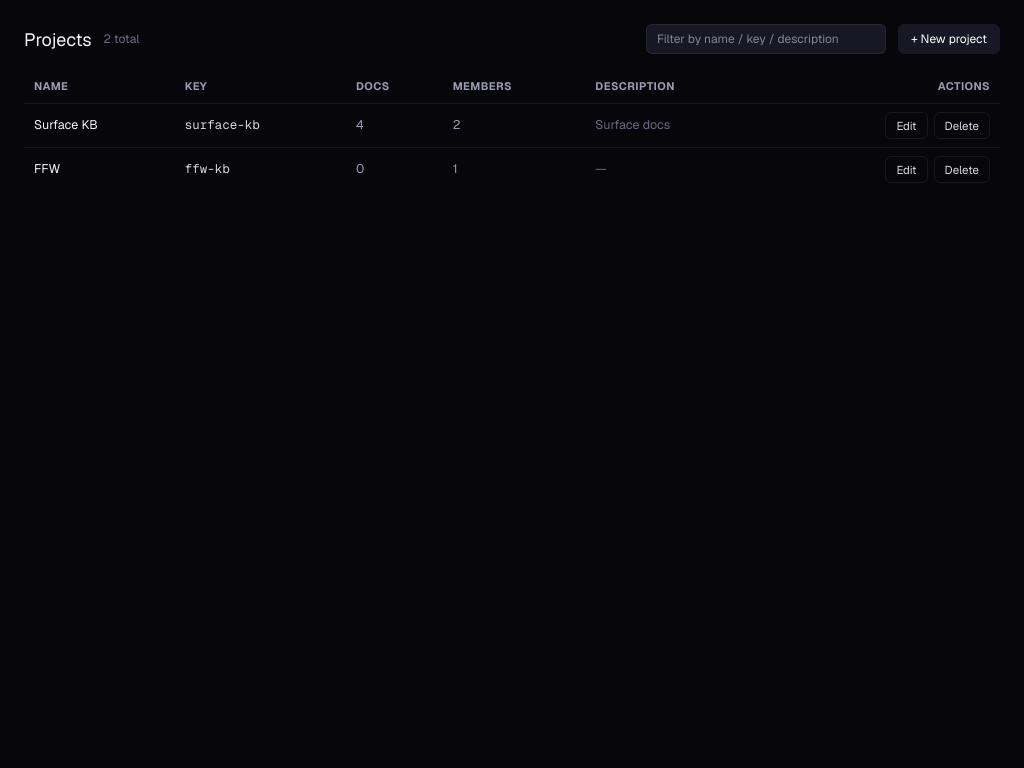
ProjectsList › opens edit mode with a read-only key
Expected: the row with test id "admin-project-row-1" is shown, [24, 103, 1000, 147]
Click the button with test id "admin-project-row-1-edit" at (906, 125), box [885, 112, 928, 139]
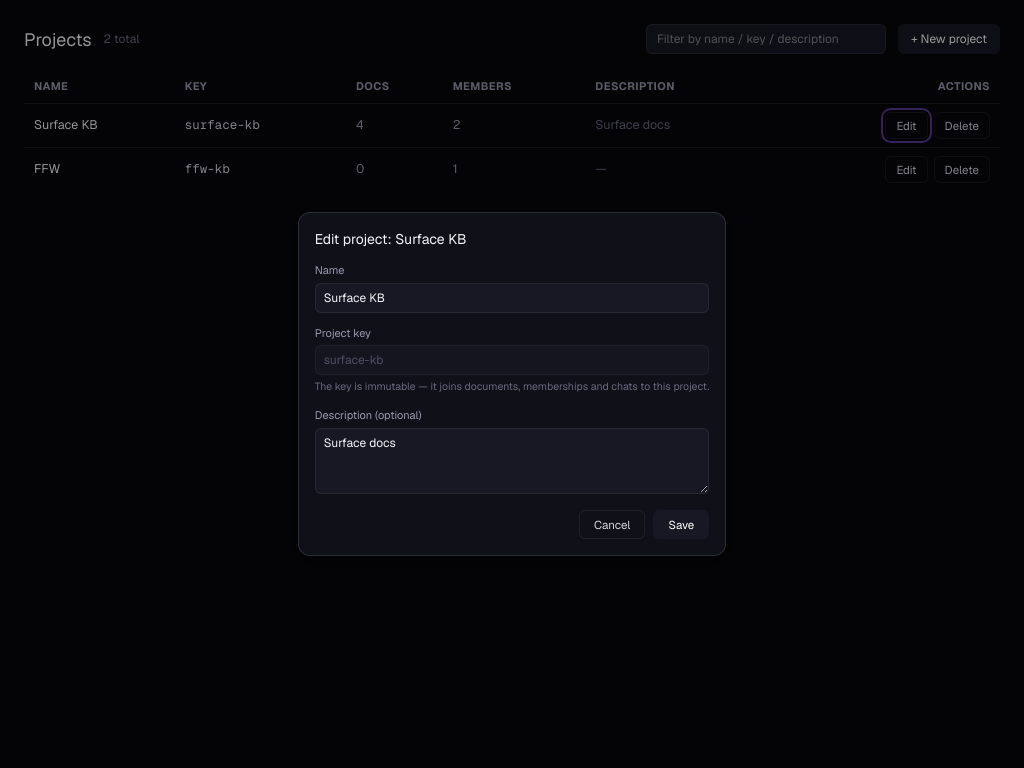
Expected: the field with test id "admin-project-form-name" holds "Surface KB", [315, 283, 709, 313]
